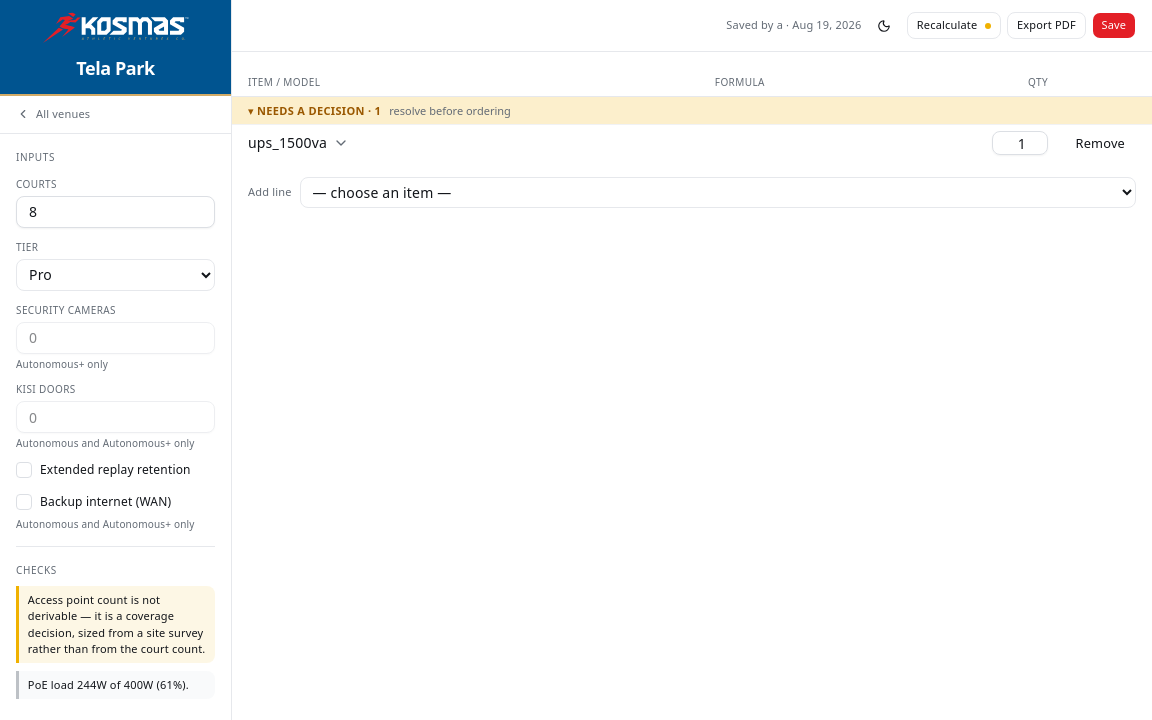
names the roles in that dialog rather than printing role keys
This screenshot has width=1152, height=720.
Click the button "Save". click: point(1114, 26)
box: [1092, 12, 1136, 39]
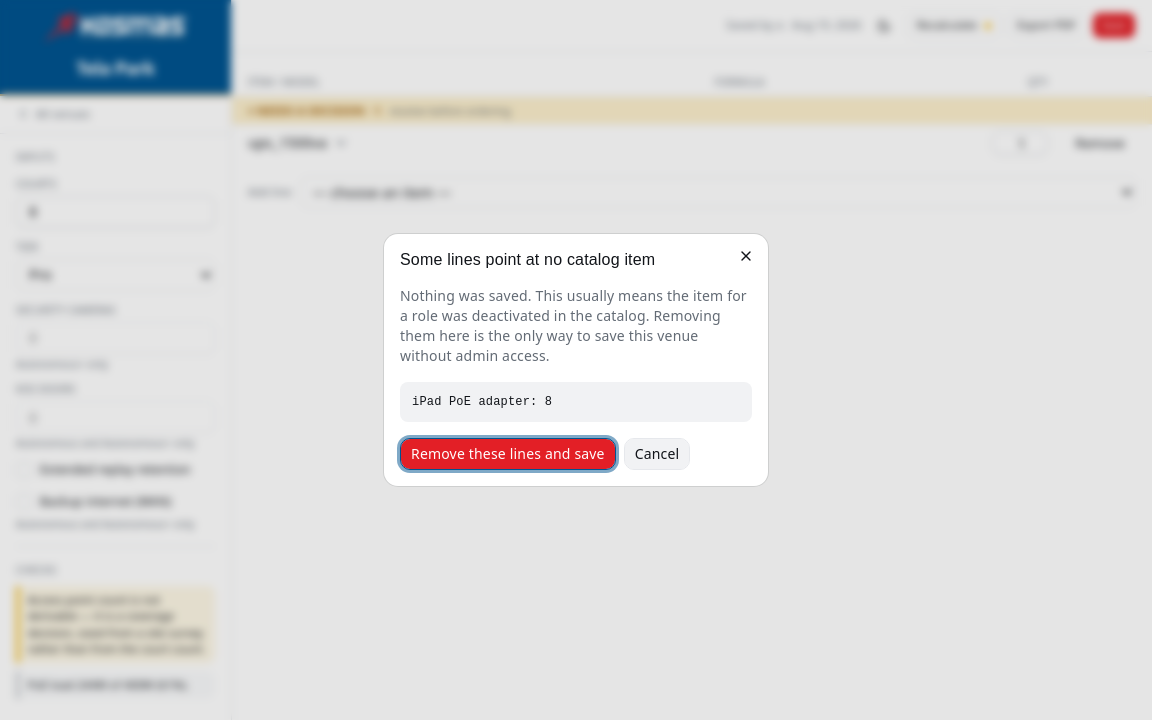
Now the text "iPad PoE adapter: 8" is shown, box [400, 382, 752, 422]
